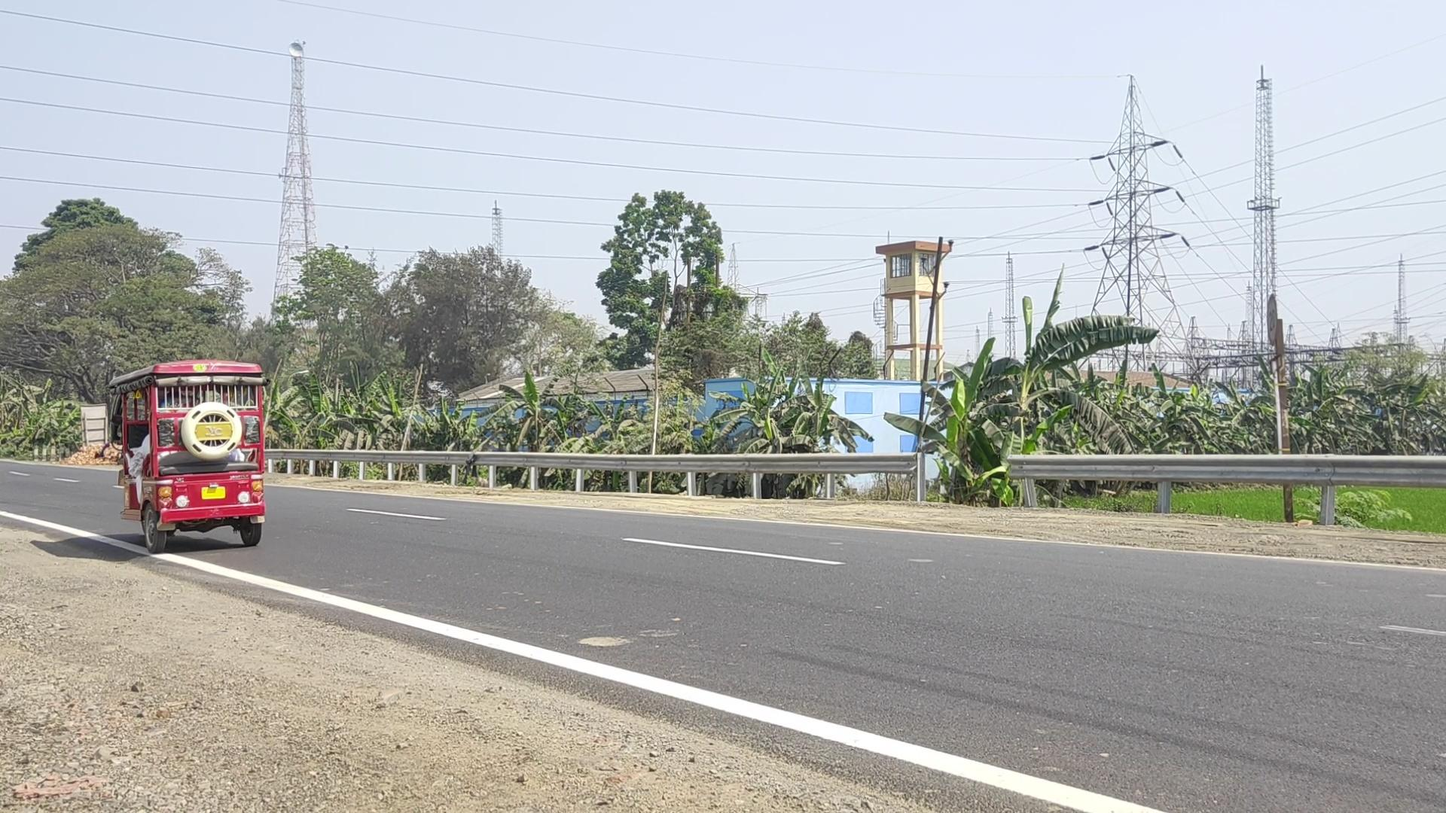Auto: (105, 359, 268, 554)
